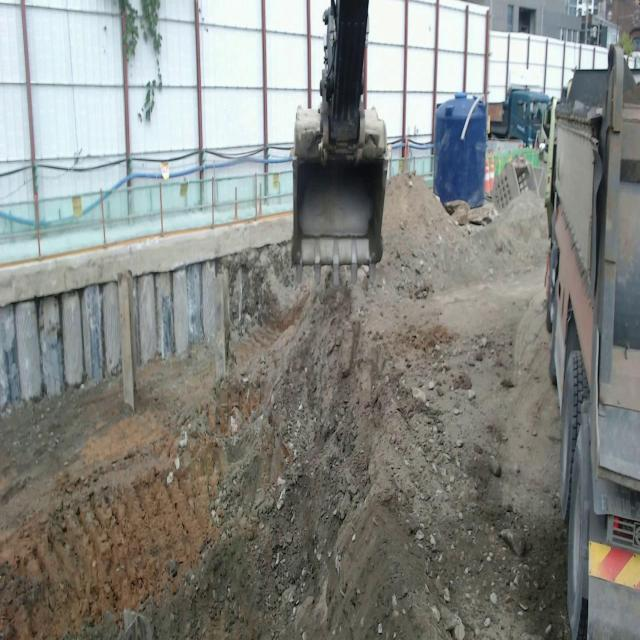cement: (0, 213, 291, 305), (473, 312, 479, 318)
sand: (0, 175, 569, 639)
